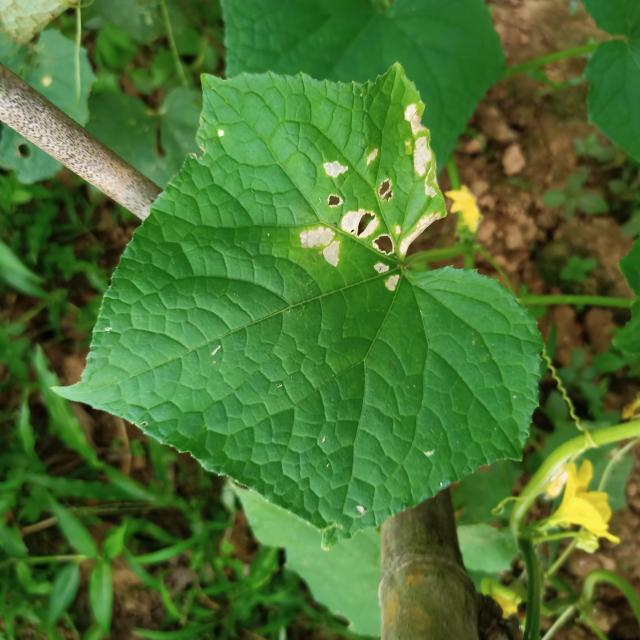disease_cucumber: (297, 102, 442, 291)
